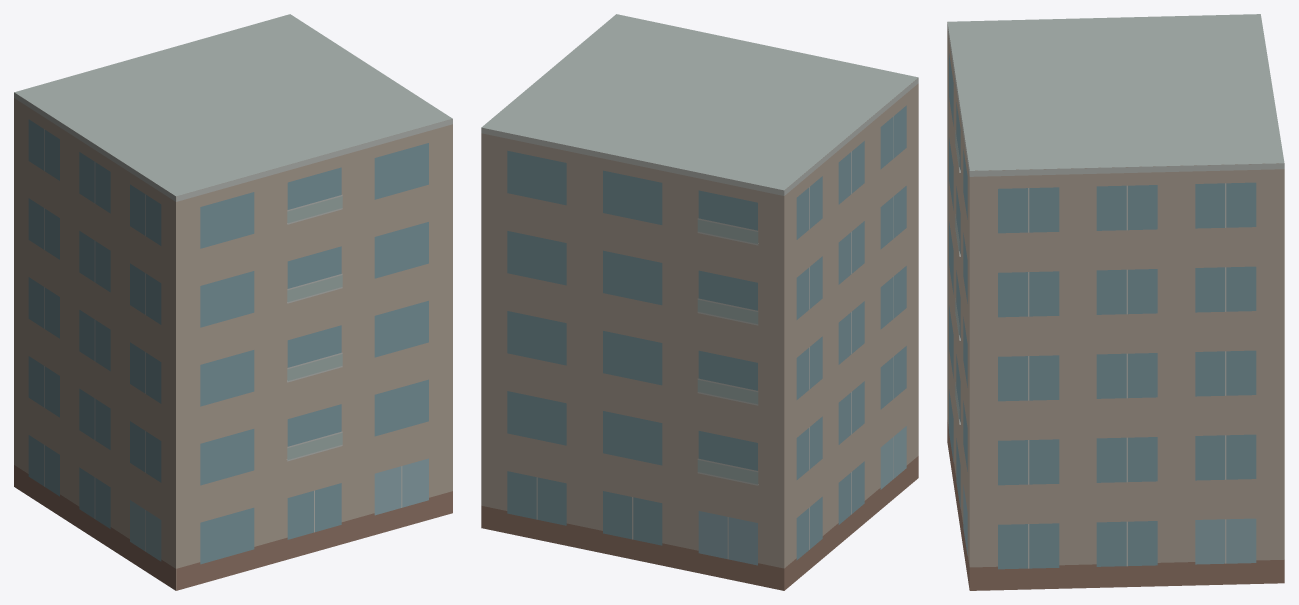
File: survey-upis-32698377.glb
The picture shows the model from 3 angles, left to right: view 1: azimuth 30°, elevation 25°; view 2: azimuth 150°, elevation 25°; view 3: azimuth 270°, elevation 25°; orthographic projection. The views are drawn at different scales.
Visible parts, largest first — view 1: survey-upis-32698377.tmp; view 2: survey-upis-32698377.tmp; view 3: survey-upis-32698377.tmp.
Boxes of the visible parts, x1,y1,x2,y2 form: survey-upis-32698377.tmp: (14, 14, 452, 590); survey-upis-32698377.tmp: (481, 14, 918, 590); survey-upis-32698377.tmp: (947, 14, 1284, 590).
Bounding box in the file's own units: 13.71 × 17.1 × 12.45.
